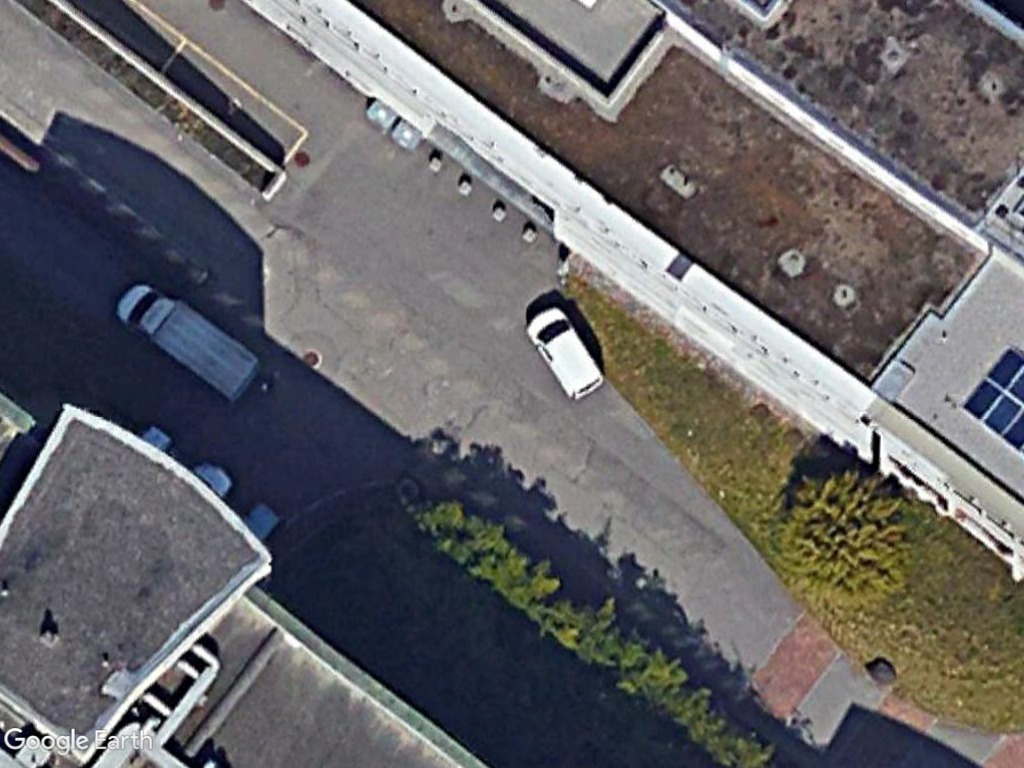truck: (111, 280, 265, 404)
van: (519, 303, 608, 405)
